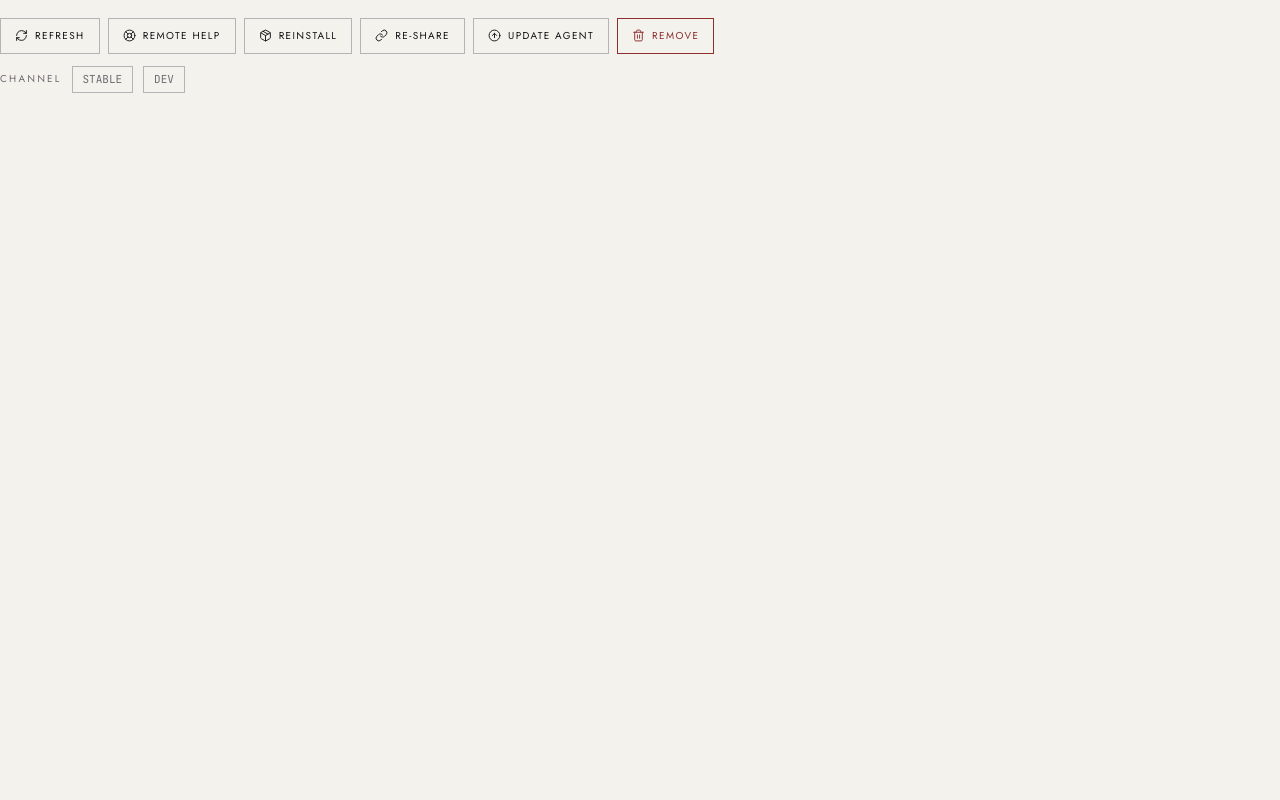
Test: ActionRow — RE-SHARE › reports a mint failure instead of showing a stale or blank link
The width and height of the screenshot is (1280, 800).
Click the button "RE-SHARE": (413, 36) [360, 18, 465, 54]
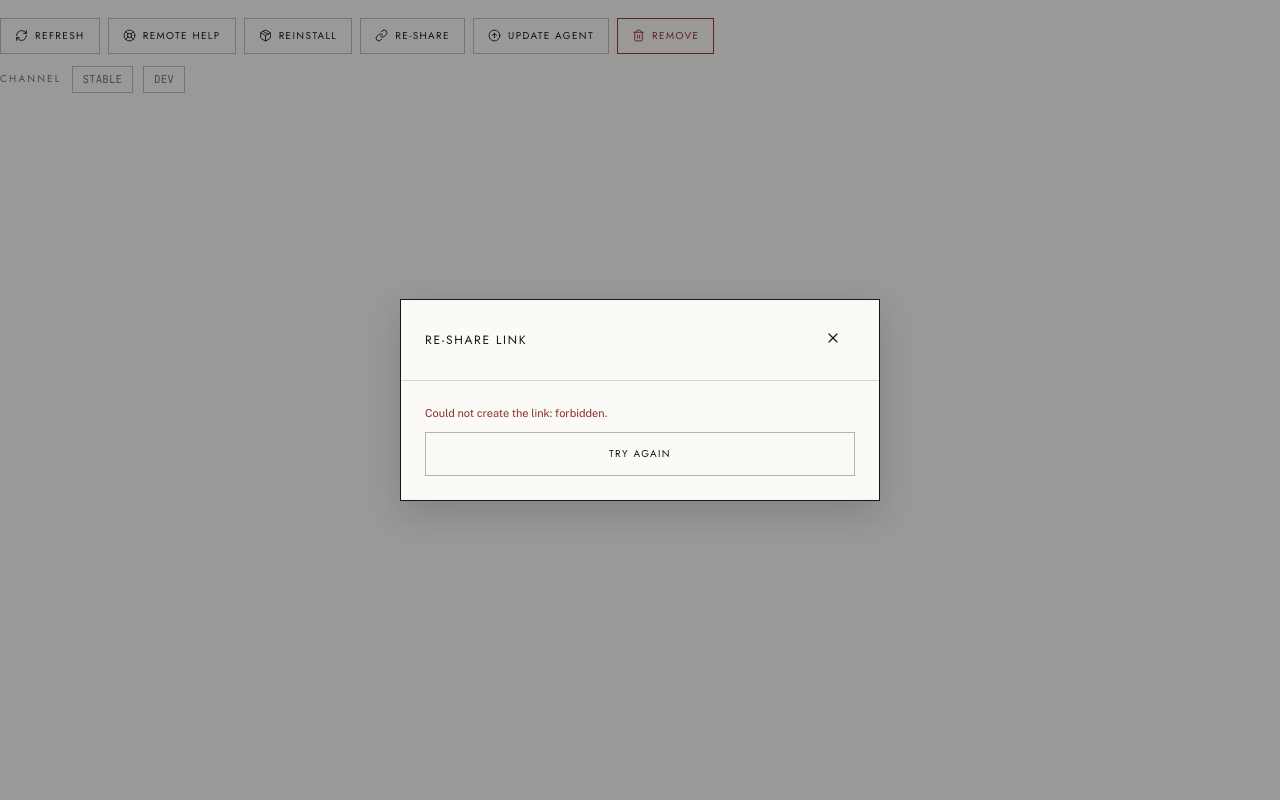
Expected: the text "Could not create the link: forbidden." is shown, [425, 407, 607, 419]
